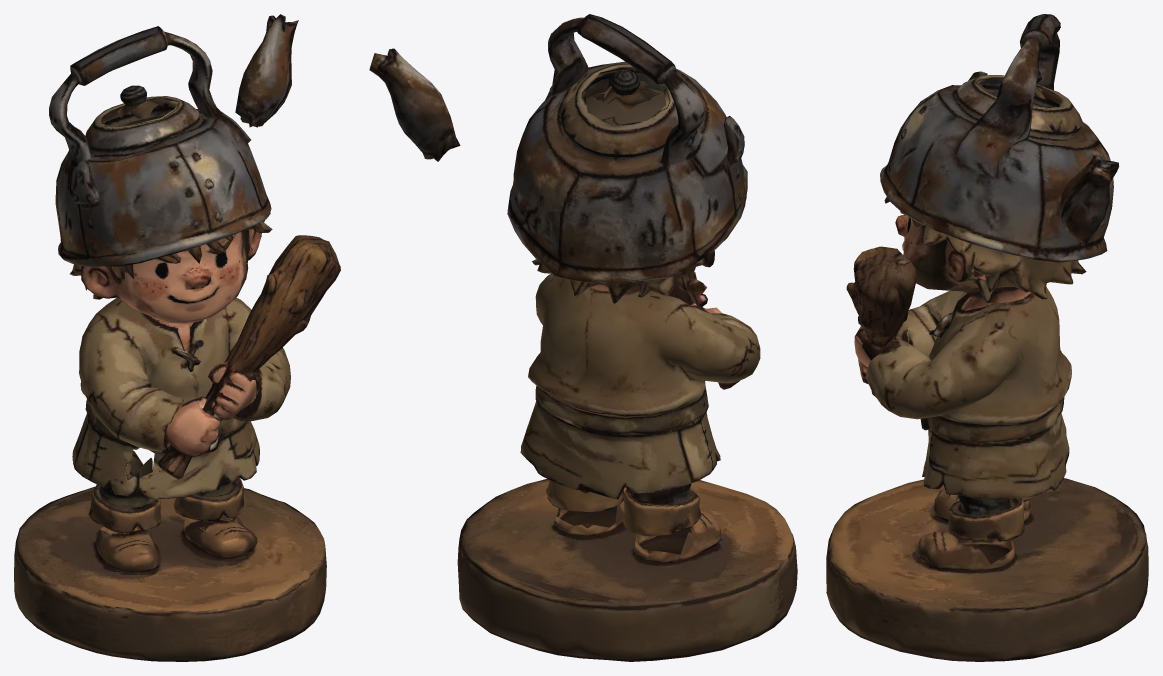
File: hero-pip.glb
3 renders of one model, left to right at view 1: azimuth 30°, elevation 25°; view 2: azimuth 150°, elevation 25°; view 3: azimuth 270°, elevation 25°, orthographic. The views are drawn at different scales.
Visible parts, largest first — view 1: world; view 2: world; view 3: world.
Part boxes in pixels (<box>): world: <box>14,14,340,661</box>; world: <box>369,14,797,661</box>; world: <box>826,14,1148,661</box>.
Size of the model in its own units: 0.5181 by 0.8594 by 0.4393.
1 material, 1 textured.
